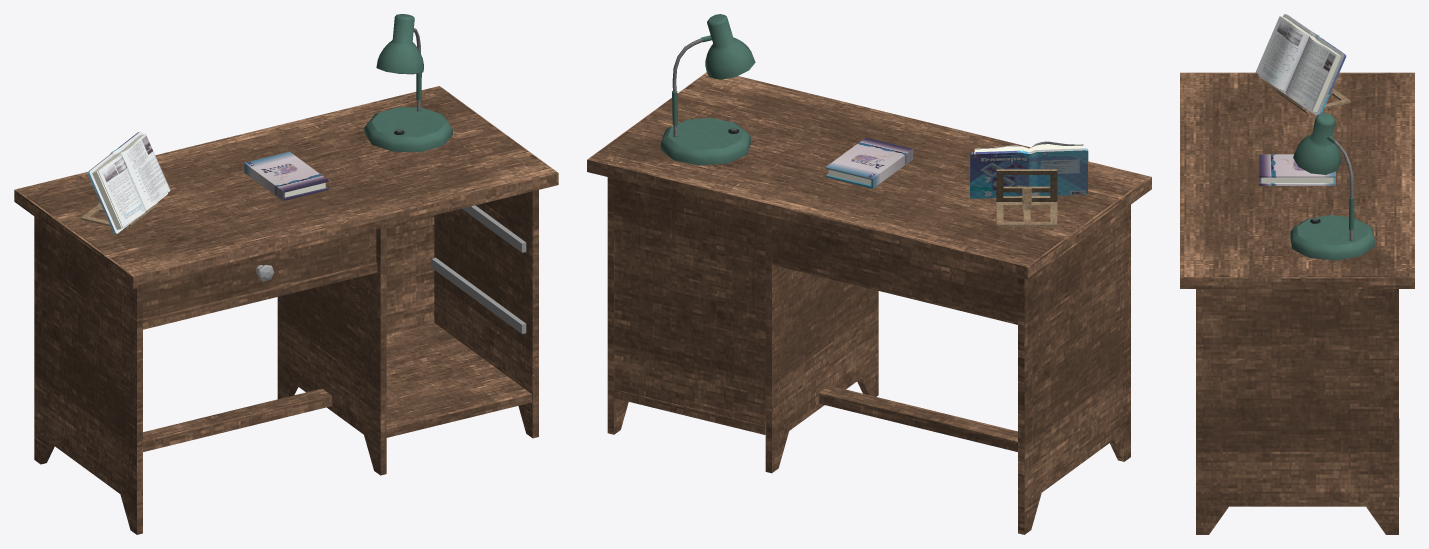
File: TableFull.fbx
3 views of the same model, side by side, from view 1: azimuth 30°, elevation 25°; view 2: azimuth 150°, elevation 25°; view 3: azimuth 270°, elevation 25° (orthographic). The views are drawn at different scales.
Visible parts, largest first — view 1: Table, Desk_Lamp1, OpenBook, Book; view 2: Table, Desk_Lamp1, OpenBook, Book, Cube.047; view 3: Table, Desk_Lamp1, OpenBook, Book, Cube.047.
Part boxes in pixels (x1,y1,x2,y2): Table: (14,86,558,534); Desk_Lamp1: (364,14,452,152); OpenBook: (87,131,170,234); Book: (244,151,328,200); Table: (587,72,1151,534); Desk_Lamp1: (660,14,755,165); OpenBook: (969,141,1088,198); Book: (825,137,913,188); Cube.047: (996,169,1057,226); Table: (1180,72,1414,534); Desk_Lamp1: (1290,113,1374,260); OpenBook: (1255,14,1346,115); Book: (1259,154,1335,185); Cube.047: (1273,87,1350,113).
Size of the model in its own units: 114 by 101 by 55.47.
